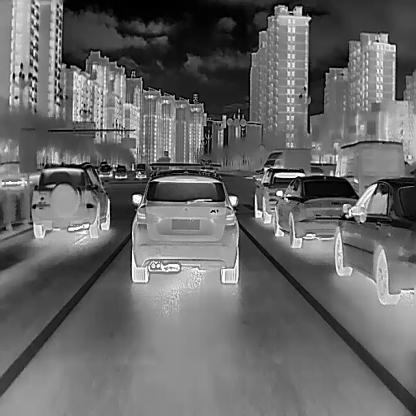car: (129, 165, 240, 283), (332, 175, 416, 284), (272, 173, 360, 248), (30, 161, 111, 238), (334, 141, 406, 198), (251, 166, 305, 224), (114, 164, 127, 180), (135, 162, 146, 180), (98, 164, 112, 176)
truck: (262, 146, 311, 179)
